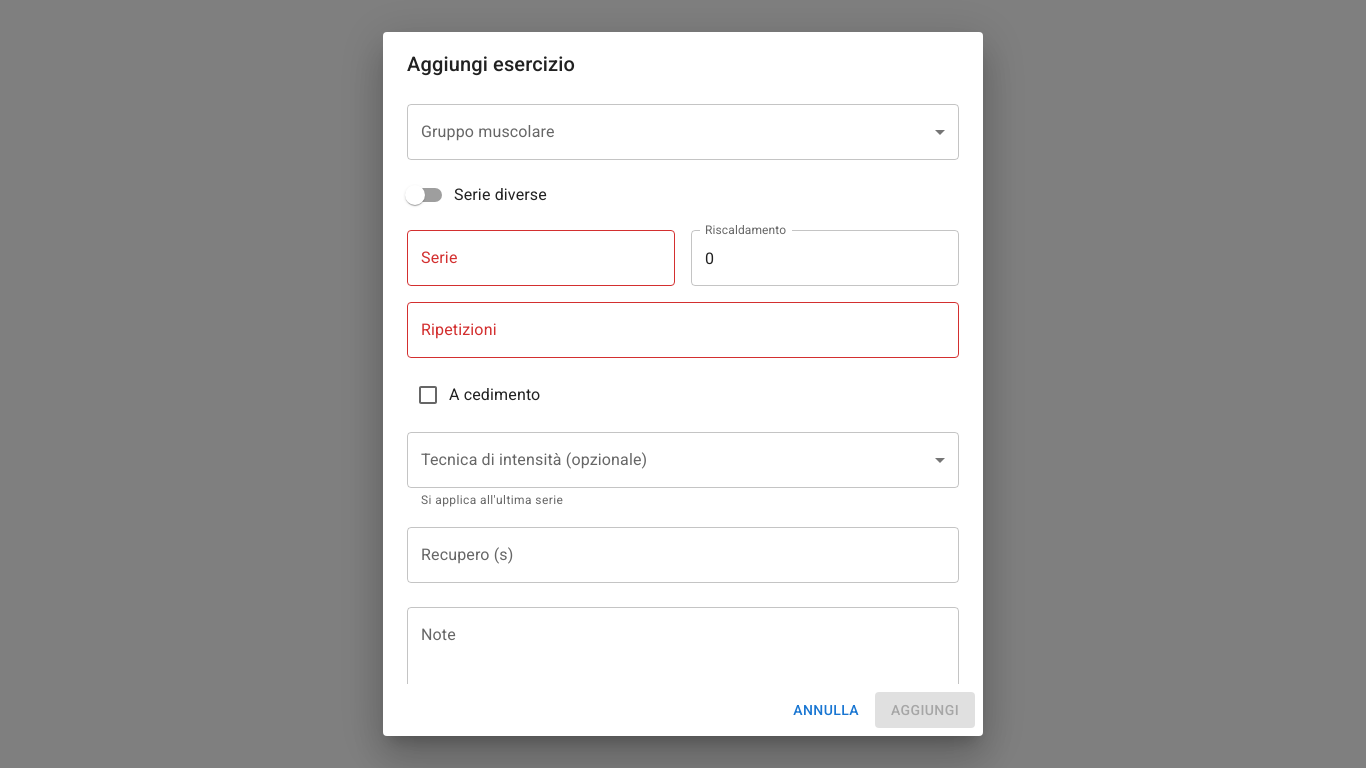
Scenario: ExerciseDialog · creazione con gruppo "Gambe" › mostra la select obbligatoria del muscolo principale
Press the mouse on the dropdown next to "Gruppo muscolare" at [683, 132], box [407,104,959,160]
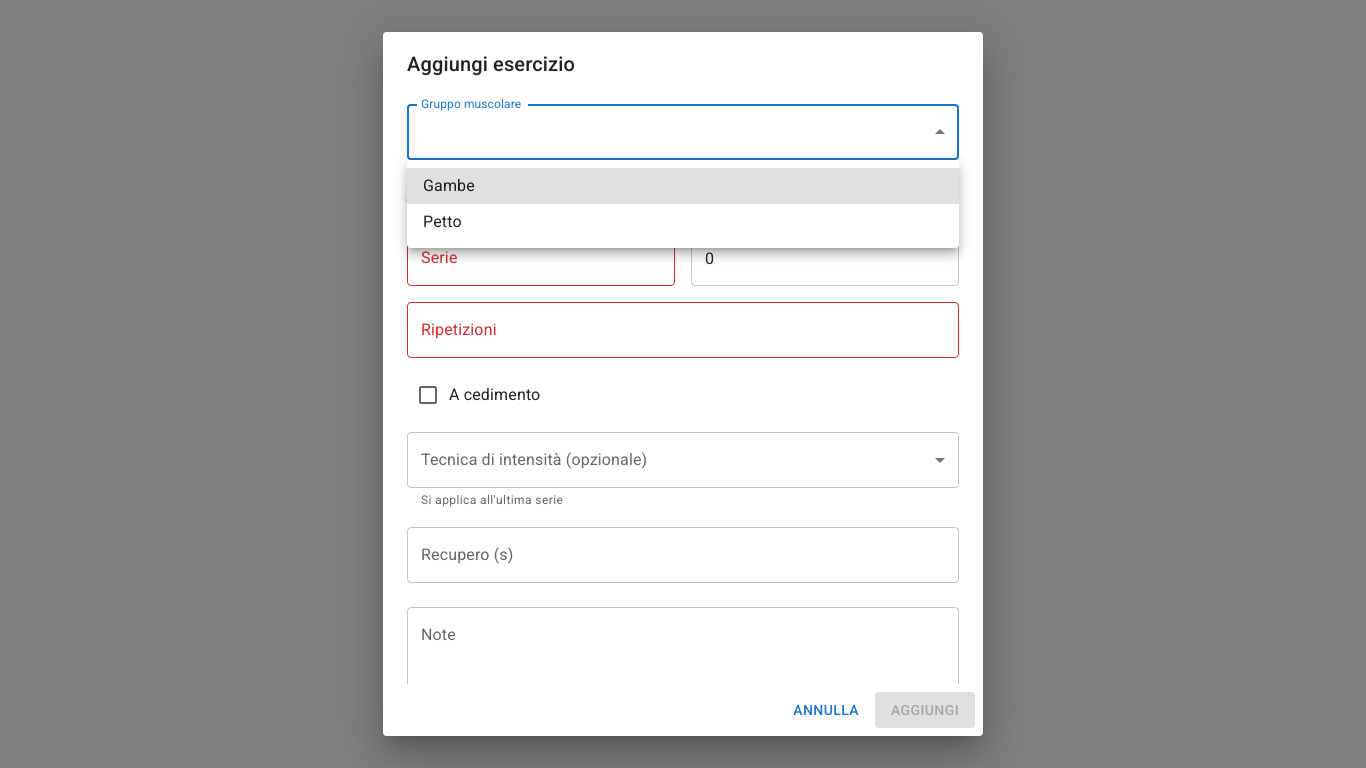
Click the option "Gambe" at [449, 186], box [407,168,959,204]
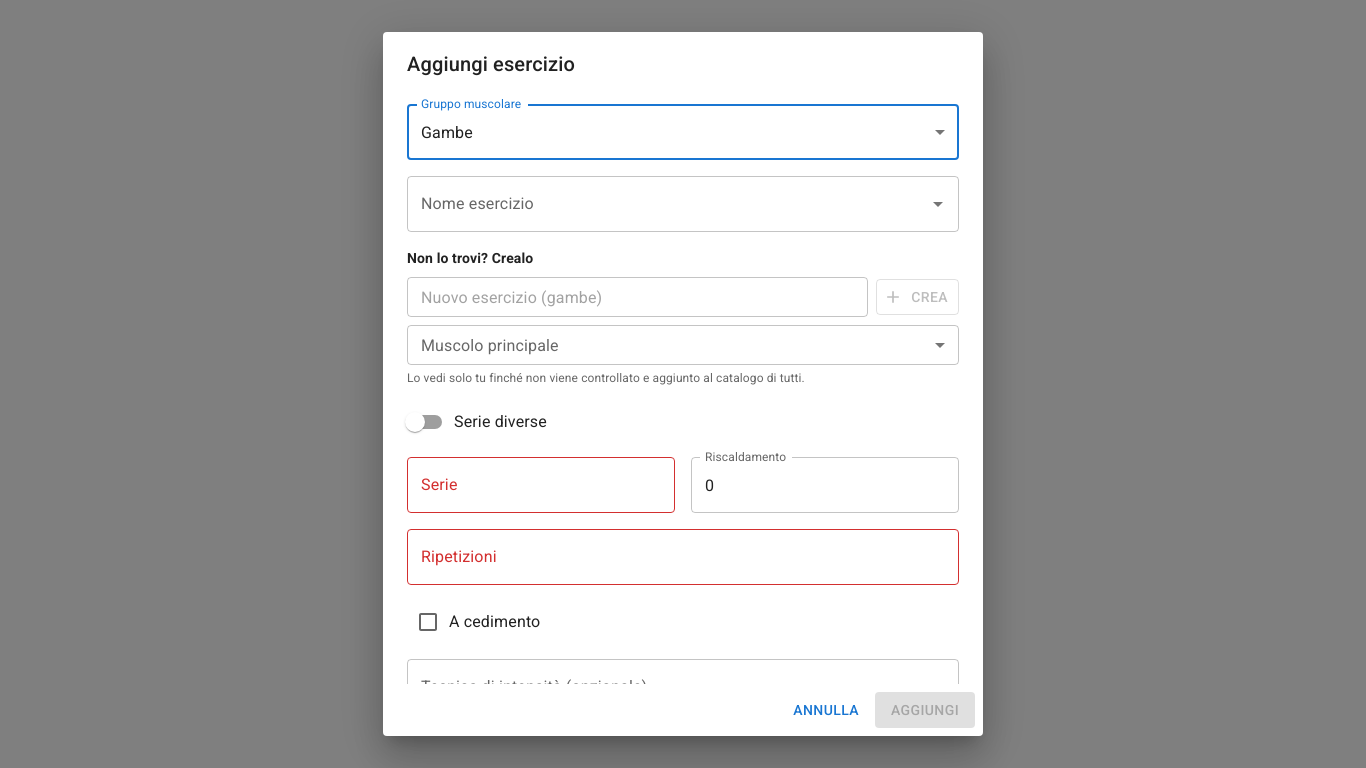
expect the text "Muscolo principale" is shown: met, box [421,334,559,357]
